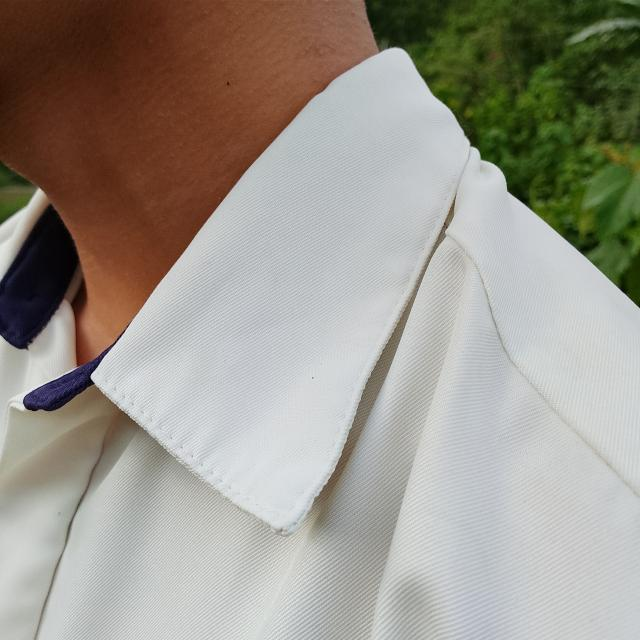education_male_uniform: (3, 36, 578, 640)
